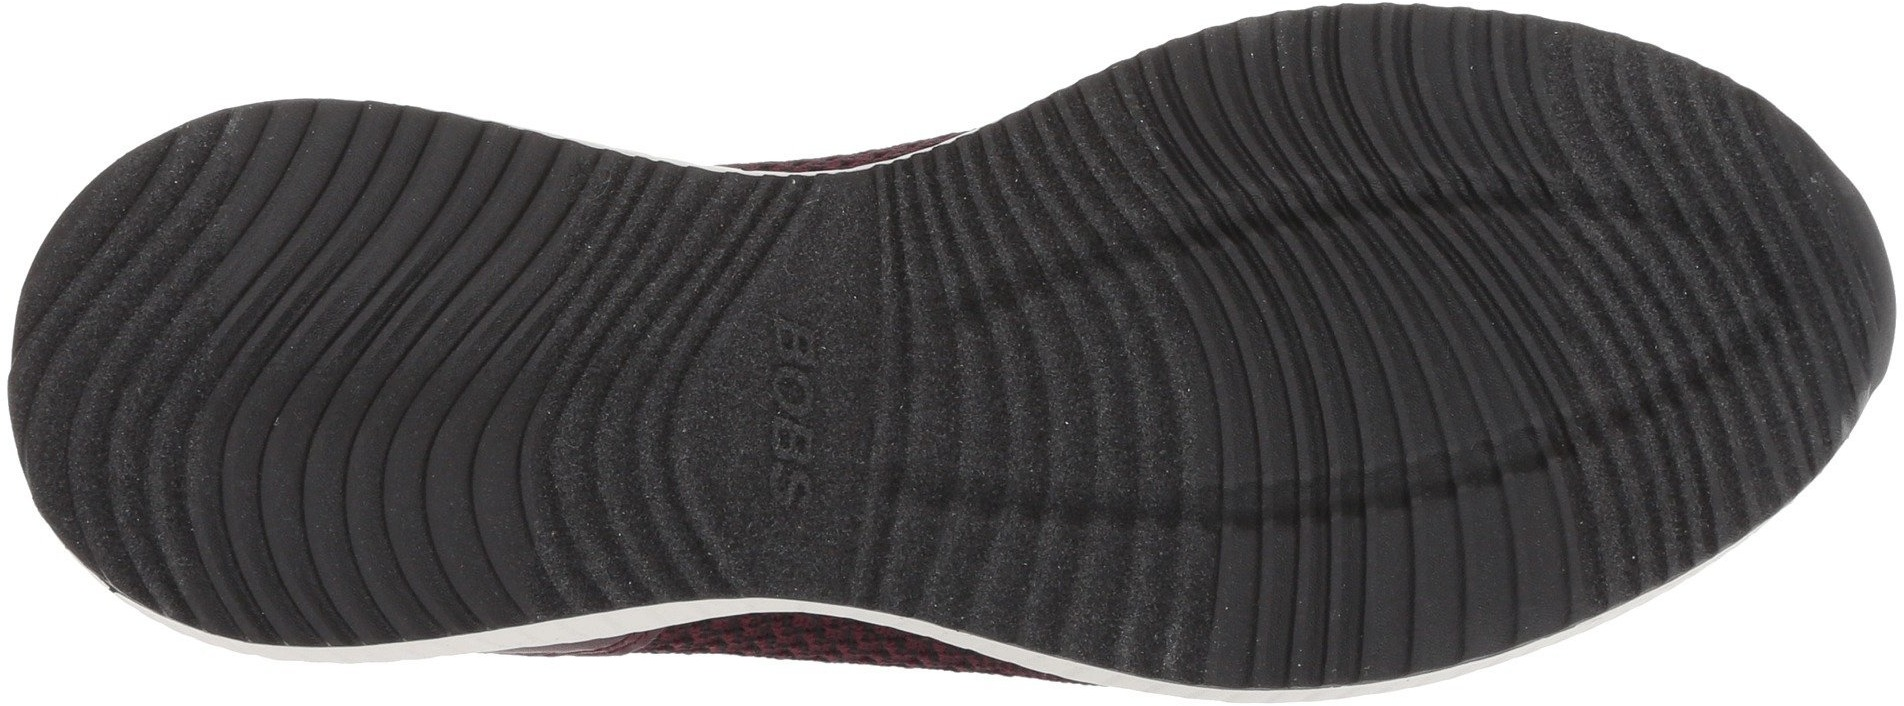exclude: (461, 1, 1025, 177)
line: (299, 166, 732, 594), (110, 339, 365, 591), (108, 166, 365, 400)
text: (743, 320, 840, 418), (741, 417, 837, 515)
